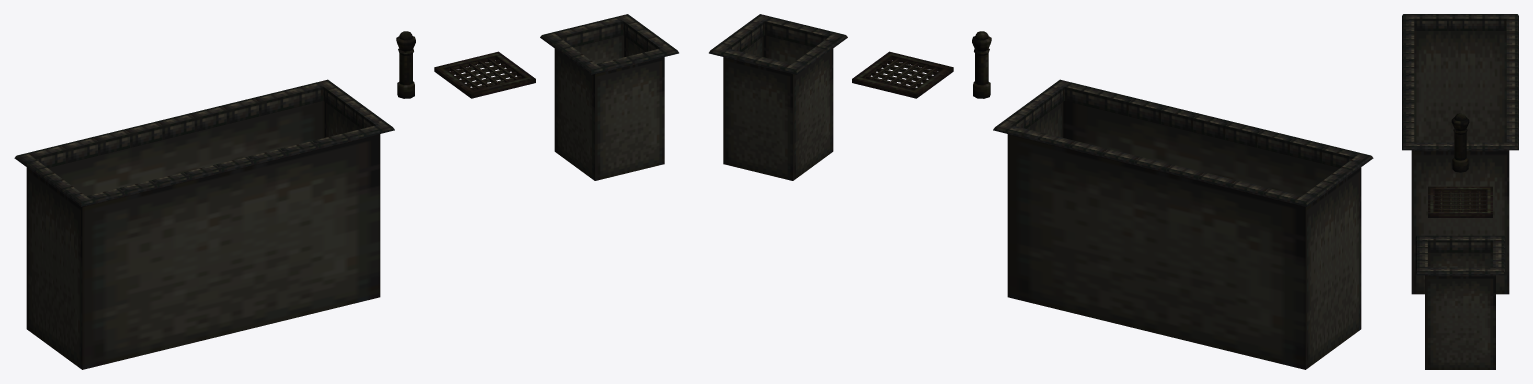
Rendered from EnvMdrMD_City_B_Exterior_Manhole_A.FBX.
The picture shows the model from 3 angles, left to right: view 1: azimuth 30°, elevation 25°; view 2: azimuth 150°, elevation 25°; view 3: azimuth 270°, elevation 25°; orthographic projection. The views are drawn at different scales.
Visible parts, largest first — view 1: EnvMdrMD_City_B_Exterior_Manhole_A_Unique_A, EnvMdrMD_City_B_Exterior_Manhole_A, EnvMdrMD_City_B_Exterior_Manhole_A_Tab, EnvMdrMD_City_B_Exterior_Post_A; view 2: EnvMdrMD_City_B_Exterior_Manhole_A_Unique_A, EnvMdrMD_City_B_Exterior_Manhole_A, EnvMdrMD_City_B_Exterior_Manhole_A_Tab, EnvMdrMD_City_B_Exterior_Post_A; view 3: EnvMdrMD_City_B_Exterior_Manhole_A_Unique_A, EnvMdrMD_City_B_Exterior_Manhole_A, EnvMdrMD_City_B_Exterior_Manhole_A_Tab, EnvMdrMD_City_B_Exterior_Post_A.
Boxes of the visible parts, bbox=[...] form: EnvMdrMD_City_B_Exterior_Manhole_A_Unique_A: bbox=[14, 79, 394, 369]; EnvMdrMD_City_B_Exterior_Manhole_A: bbox=[540, 14, 678, 180]; EnvMdrMD_City_B_Exterior_Manhole_A_Tab: bbox=[434, 51, 535, 98]; EnvMdrMD_City_B_Exterior_Post_A: bbox=[396, 31, 415, 98]; EnvMdrMD_City_B_Exterior_Manhole_A_Unique_A: bbox=[993, 79, 1373, 369]; EnvMdrMD_City_B_Exterior_Manhole_A: bbox=[709, 14, 847, 180]; EnvMdrMD_City_B_Exterior_Manhole_A_Tab: bbox=[852, 51, 953, 98]; EnvMdrMD_City_B_Exterior_Post_A: bbox=[972, 31, 991, 98]; EnvMdrMD_City_B_Exterior_Manhole_A_Unique_A: bbox=[1402, 14, 1518, 294]; EnvMdrMD_City_B_Exterior_Manhole_A: bbox=[1415, 235, 1505, 369]; EnvMdrMD_City_B_Exterior_Manhole_A_Tab: bbox=[1428, 186, 1492, 217]; EnvMdrMD_City_B_Exterior_Post_A: bbox=[1451, 113, 1469, 172].
Size of the model in its own units: 1129 by 412 by 215.
Materials: 1 (1 with a texture image).
